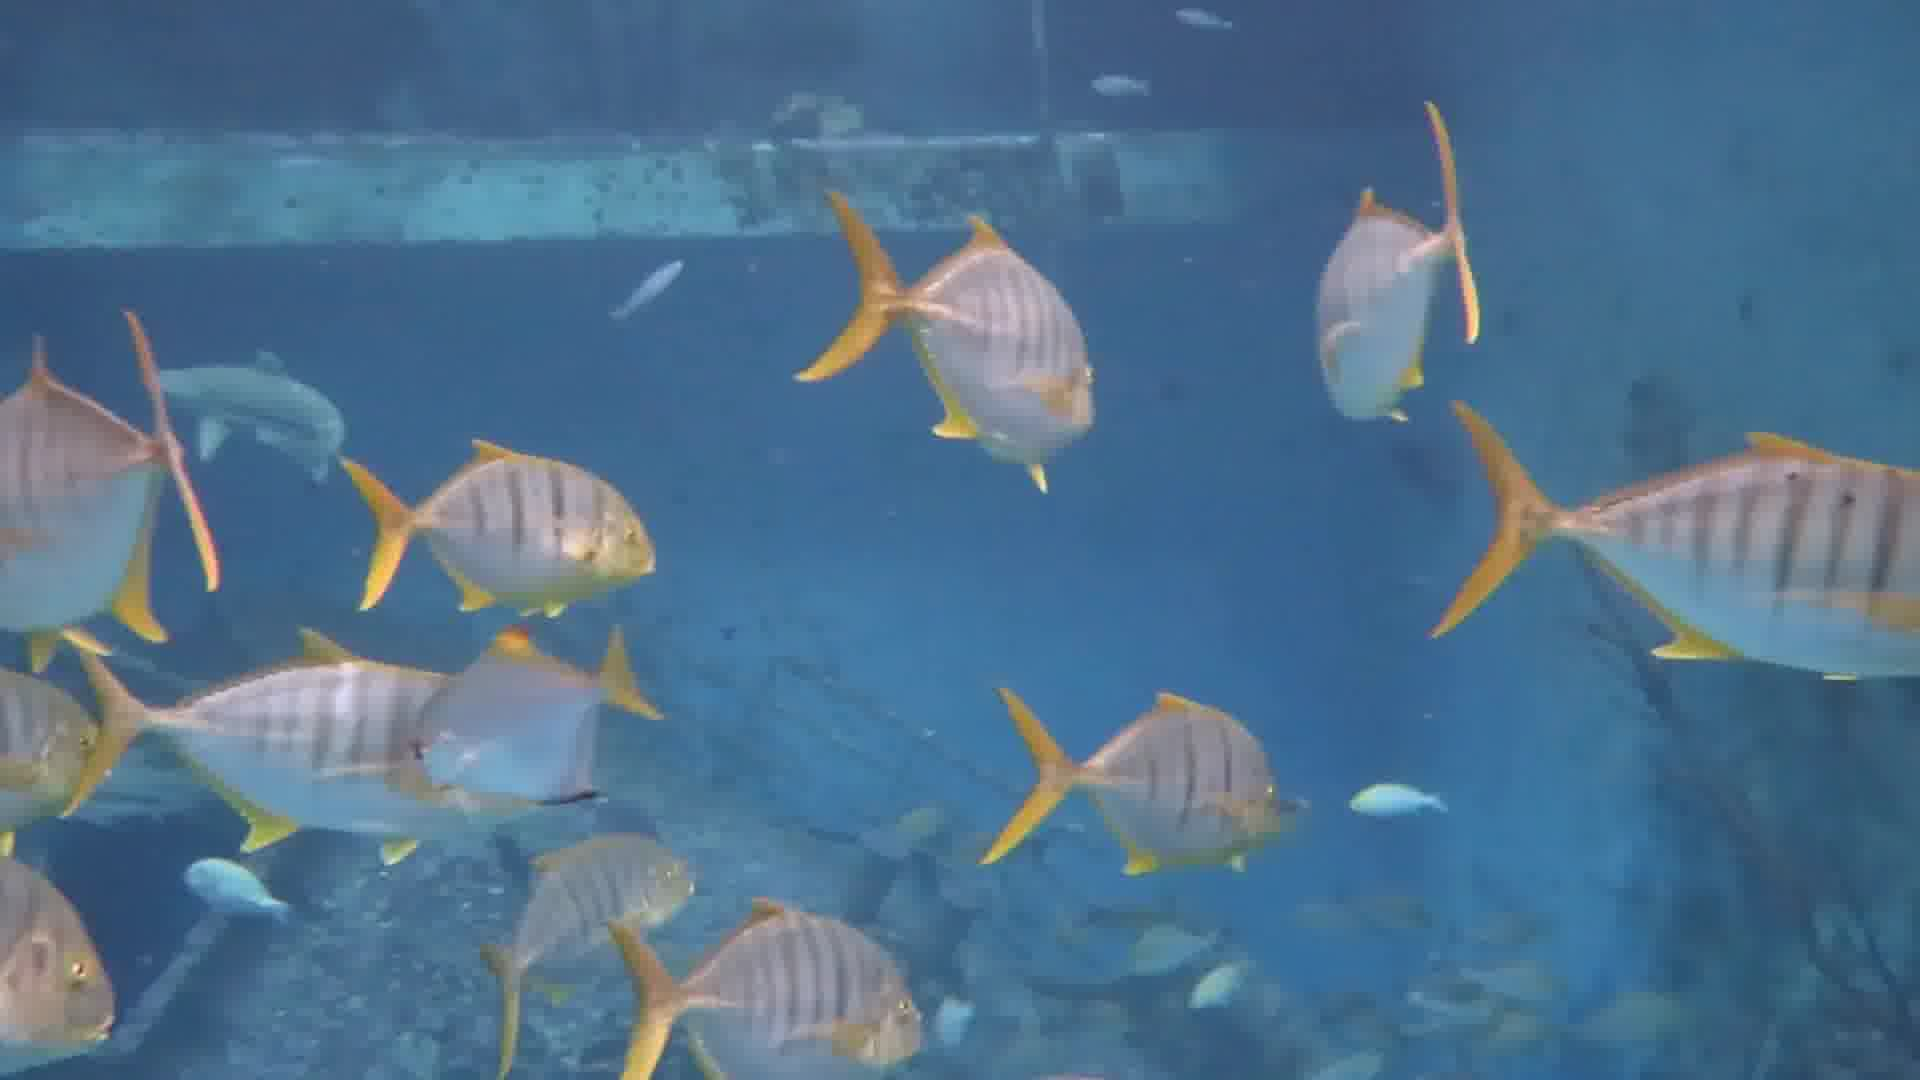Gnathanodon speciosus: (1458, 376, 1909, 680), (791, 174, 1131, 489), (1002, 659, 1360, 860), (367, 421, 655, 636), (1309, 129, 1484, 436), (618, 916, 945, 1063), (1, 864, 116, 1062)
